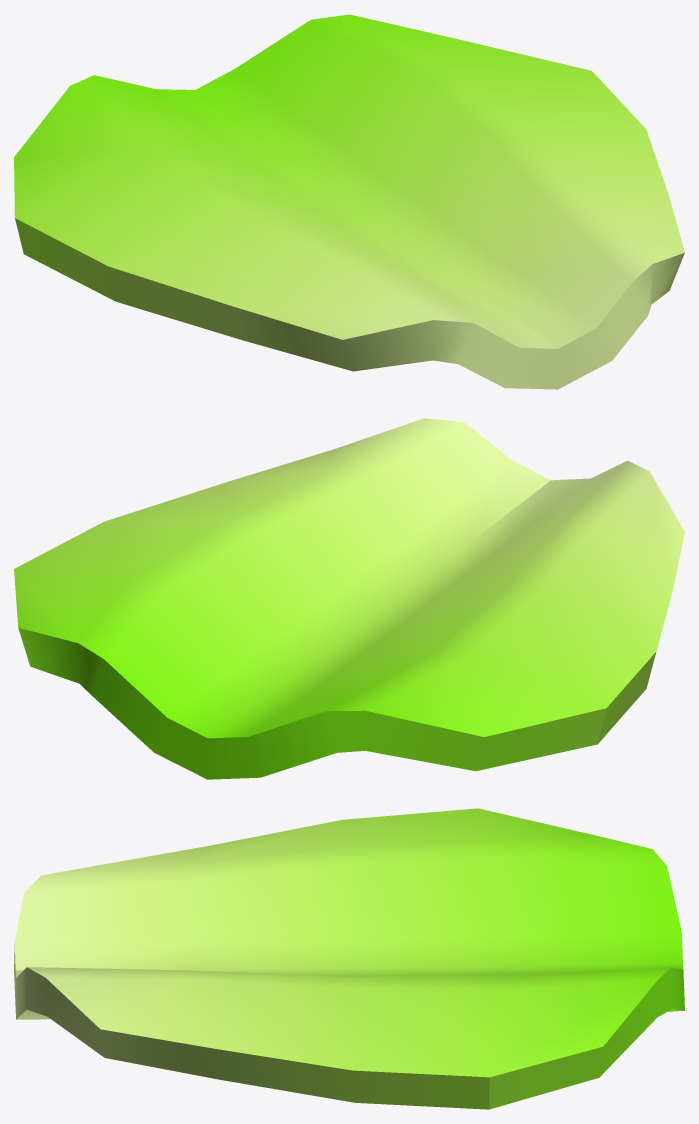
The model's file is Lettuce_01_Ready_01.fbx.
3 views of the same model, one above another, from view 1: azimuth 30°, elevation 25°; view 2: azimuth 150°, elevation 25°; view 3: azimuth 270°, elevation 25° (orthographic). The views are drawn at different scales.
Visible parts, largest first — view 1: Lettuce_01_Ready_01; view 2: Lettuce_01_Ready_01; view 3: Lettuce_01_Ready_01.
Part boxes in pixels (x1,y1,x2,y2): Lettuce_01_Ready_01: (14,14,684,389); Lettuce_01_Ready_01: (14,418,684,779); Lettuce_01_Ready_01: (14,808,684,1109).
Bounding box in the file's own units: 48.29 × 7.56 × 50.81.
